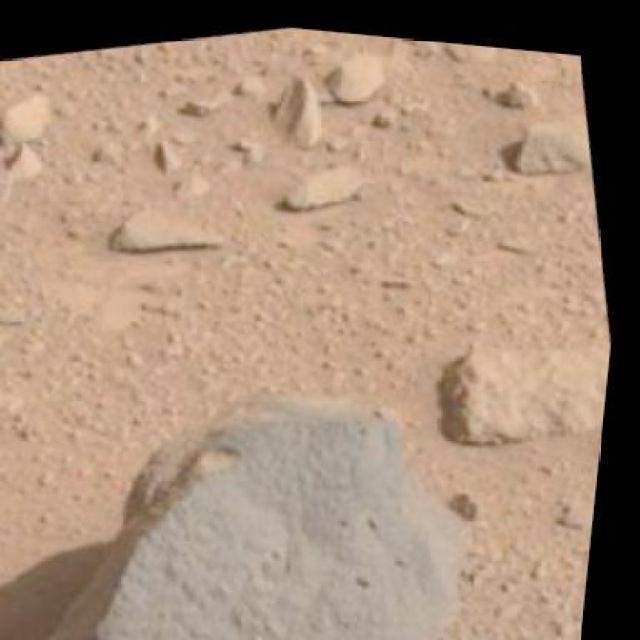rock: (0, 310, 532, 638), (431, 302, 617, 461), (106, 184, 239, 261), (497, 92, 595, 175)
